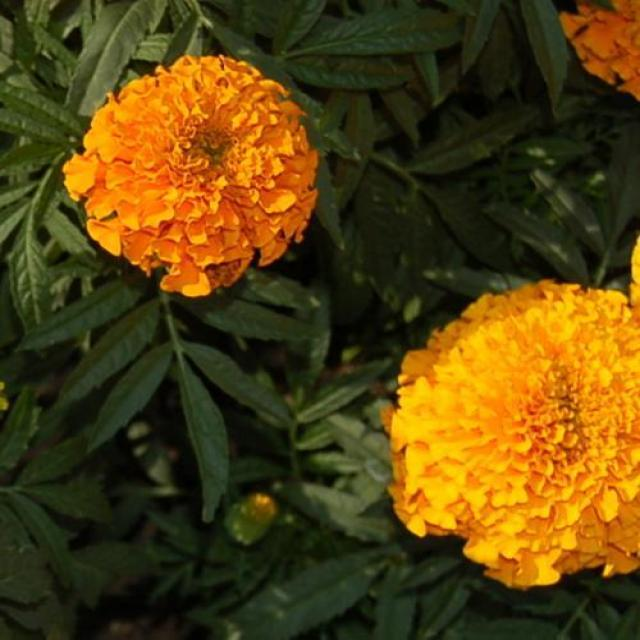marigold: (27, 55, 640, 615)
